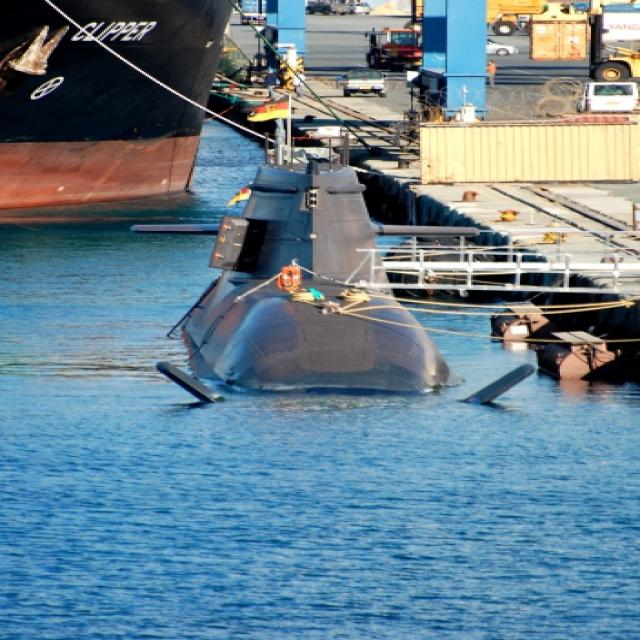submarine: (138, 144, 536, 415)
